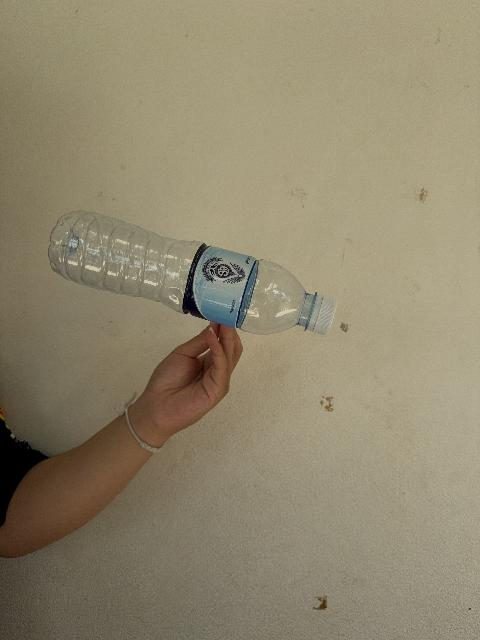bottle: (48, 212, 335, 334)
